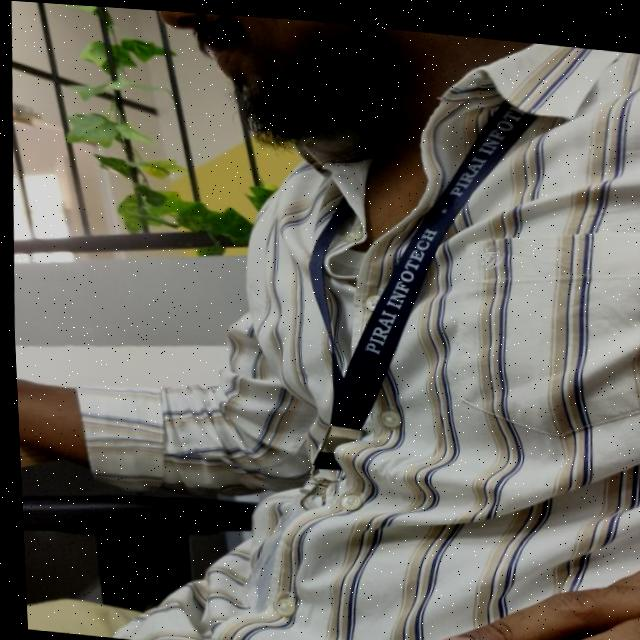id_card: (260, 59, 532, 542)
